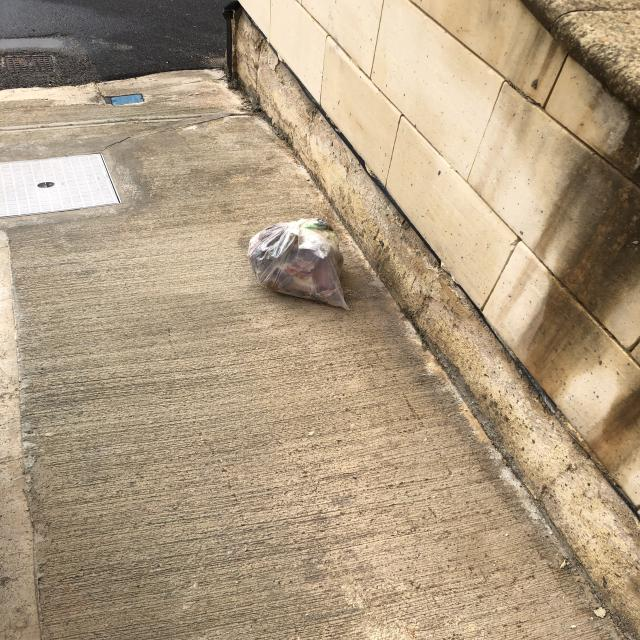Mixed Waste -Black Bag-: (248, 216, 365, 312)
